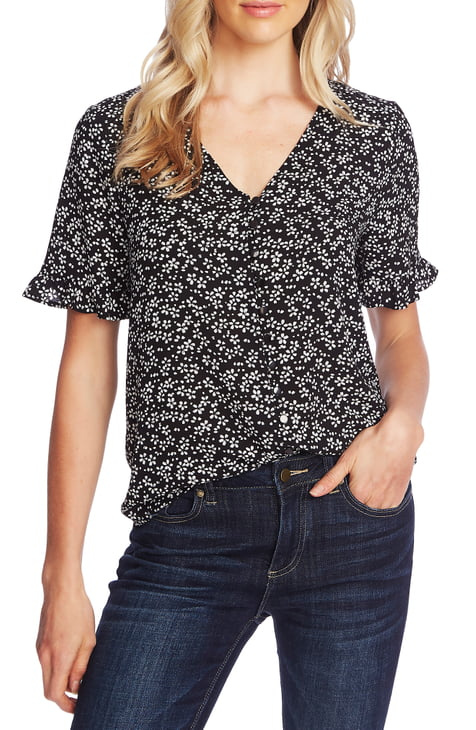C_jeans: (65, 468, 419, 730)
C_short blouse: (28, 75, 435, 529)
